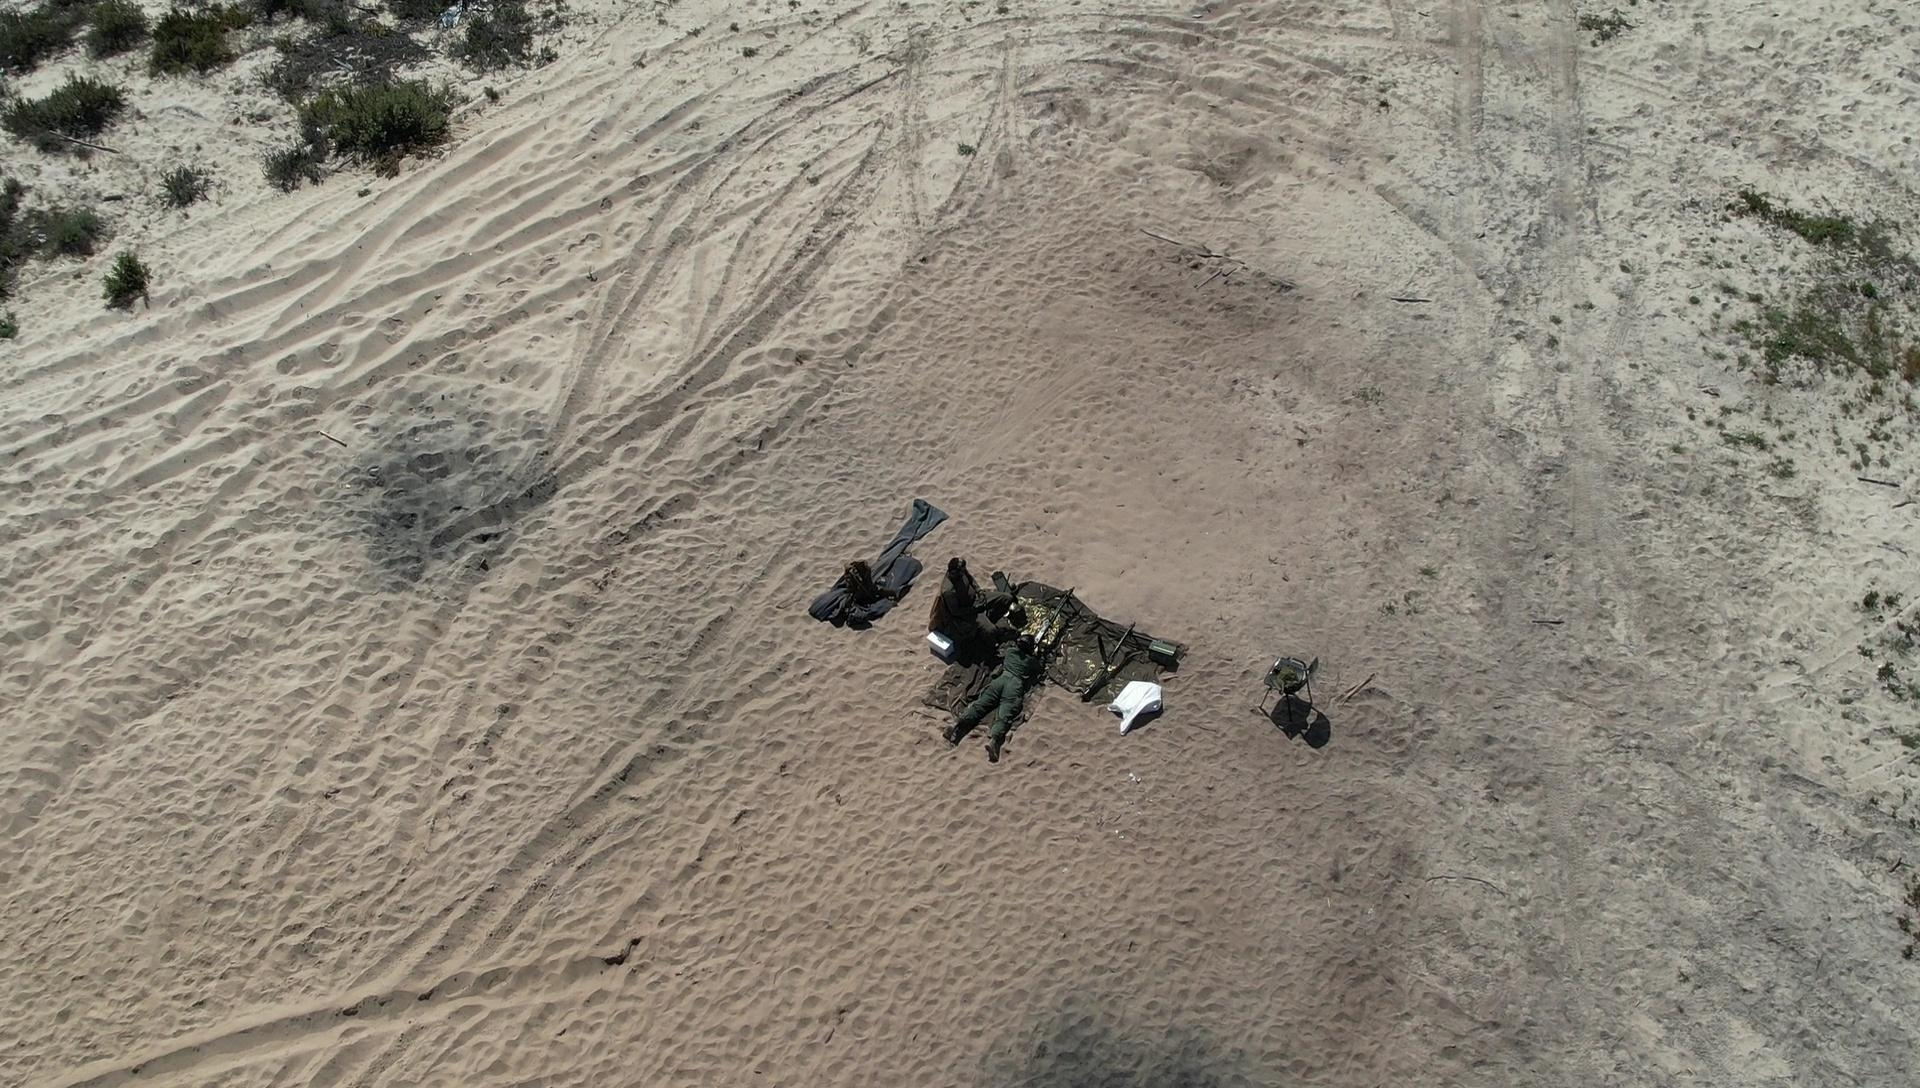Soldier: (956, 597, 1042, 742), (931, 558, 1002, 653)
